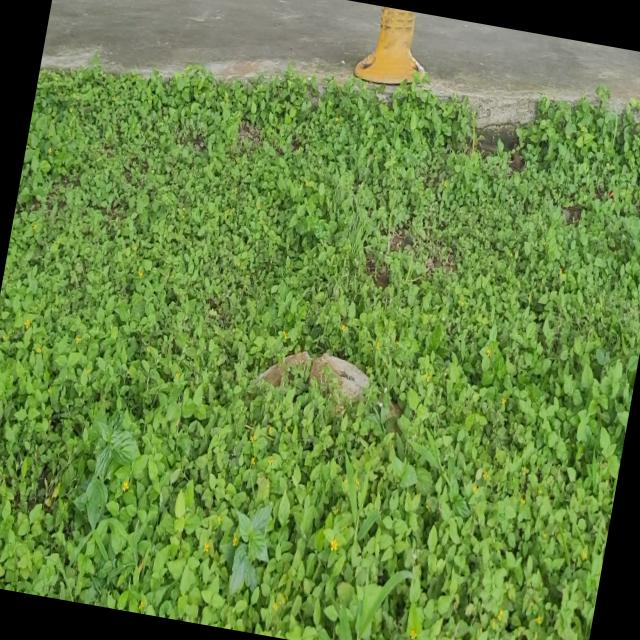cement: (41, 0, 381, 74), (411, 12, 640, 100)
grass: (0, 67, 640, 640)
